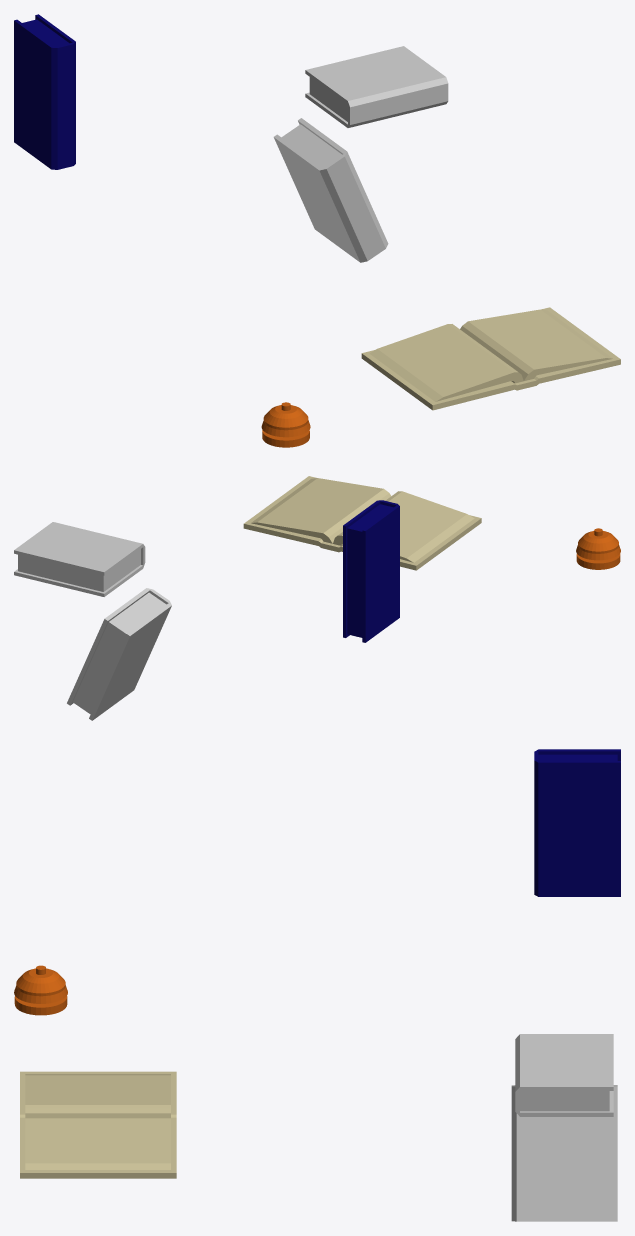
The model's file is libraryItems.obj.
The picture shows the model from 3 angles, top to bottom: view 1: azimuth 30°, elevation 25°; view 2: azimuth 150°, elevation 25°; view 3: azimuth 270°, elevation 25°; orthographic projection. The views are drawn at different scales.
Visible parts, largest first — view 1: Book_open, Book_closed.002, Book_closed, Book_closed.001, Bell; view 2: Book_open, Book_closed.002, Book_closed, Book_closed.001, Bell; view 3: Book_open, Book_closed.002, Book_closed, Book_closed.001, Bell.
Part boxes in pixels (x1,y1,x2,y2): Book_open: (361, 307, 620, 410); Book_closed.002: (14, 14, 75, 169); Book_closed: (273, 118, 388, 262); Book_closed.001: (305, 46, 448, 127); Bell: (261, 402, 310, 447); Book_open: (243, 476, 481, 570); Book_closed.002: (343, 500, 399, 642); Book_closed: (67, 588, 171, 720); Book_closed.001: (14, 522, 145, 596); Bell: (576, 528, 620, 569); Book_open: (20, 1071, 176, 1178); Book_closed.002: (534, 749, 620, 896); Book_closed: (511, 1085, 617, 1221); Book_closed.001: (515, 1034, 613, 1116); Bell: (14, 965, 67, 1015).
Bounding box in the file's own units: 1.61 × 1.09 × 1.93.
